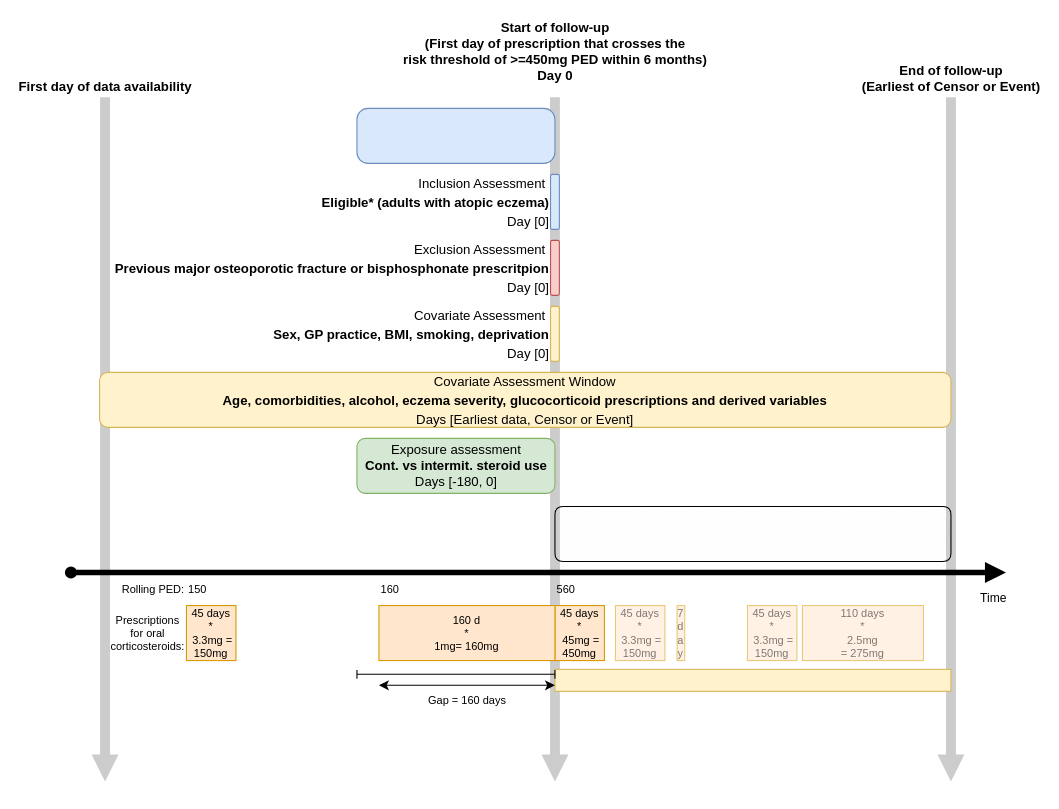
The diagram is 1059 pixels wide and 809 high, and some of its shapes have lost their labels. Here are the shapes that lost their labels. From the top down, the box of each, then its label:
(356, 107, 555, 163): Inclusion Assessment Cumulative PED >= 450mg Days [-180, 0]
(554, 505, 951, 562): Follow-up window Days [0, Censor or Event]
(554, 668, 951, 691): intermittent use
